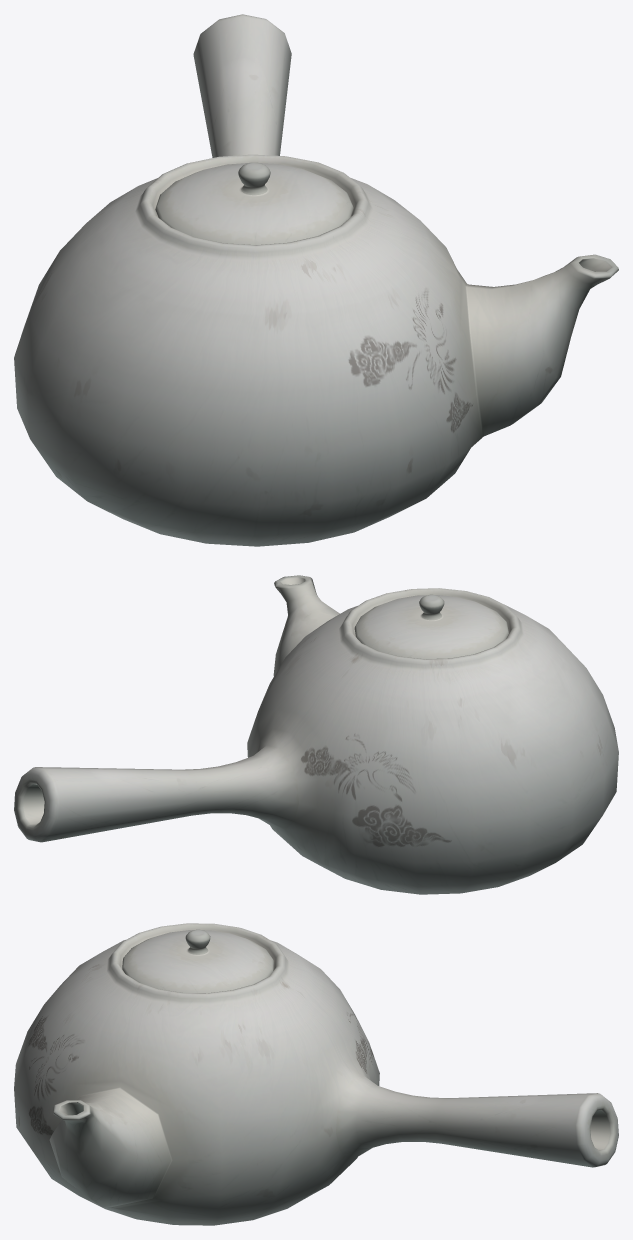
File: TraditionalKoreanHouse_Teapot.fbx
3 renders of one model, top to bottom at view 1: azimuth 30°, elevation 25°; view 2: azimuth 150°, elevation 25°; view 3: azimuth 270°, elevation 25°, orthographic. The views are drawn at different scales.
Parts seen in each view (by area): view 1: TraditionalKoreanHouse_Teapot; view 2: TraditionalKoreanHouse_Teapot; view 3: TraditionalKoreanHouse_Teapot.
Boxes of the visible parts, x1,y1,x2,y2 form: TraditionalKoreanHouse_Teapot: (14, 14, 618, 546); TraditionalKoreanHouse_Teapot: (14, 575, 618, 894); TraditionalKoreanHouse_Teapot: (14, 923, 618, 1225).
Bounding box in the file's own units: 20.5 × 13.35 × 28.39.
